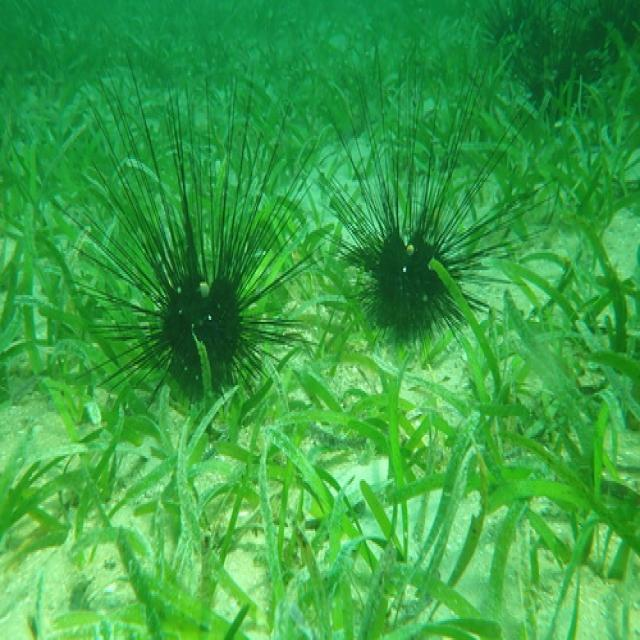Urchin: (68, 50, 326, 387), (314, 42, 538, 343)
